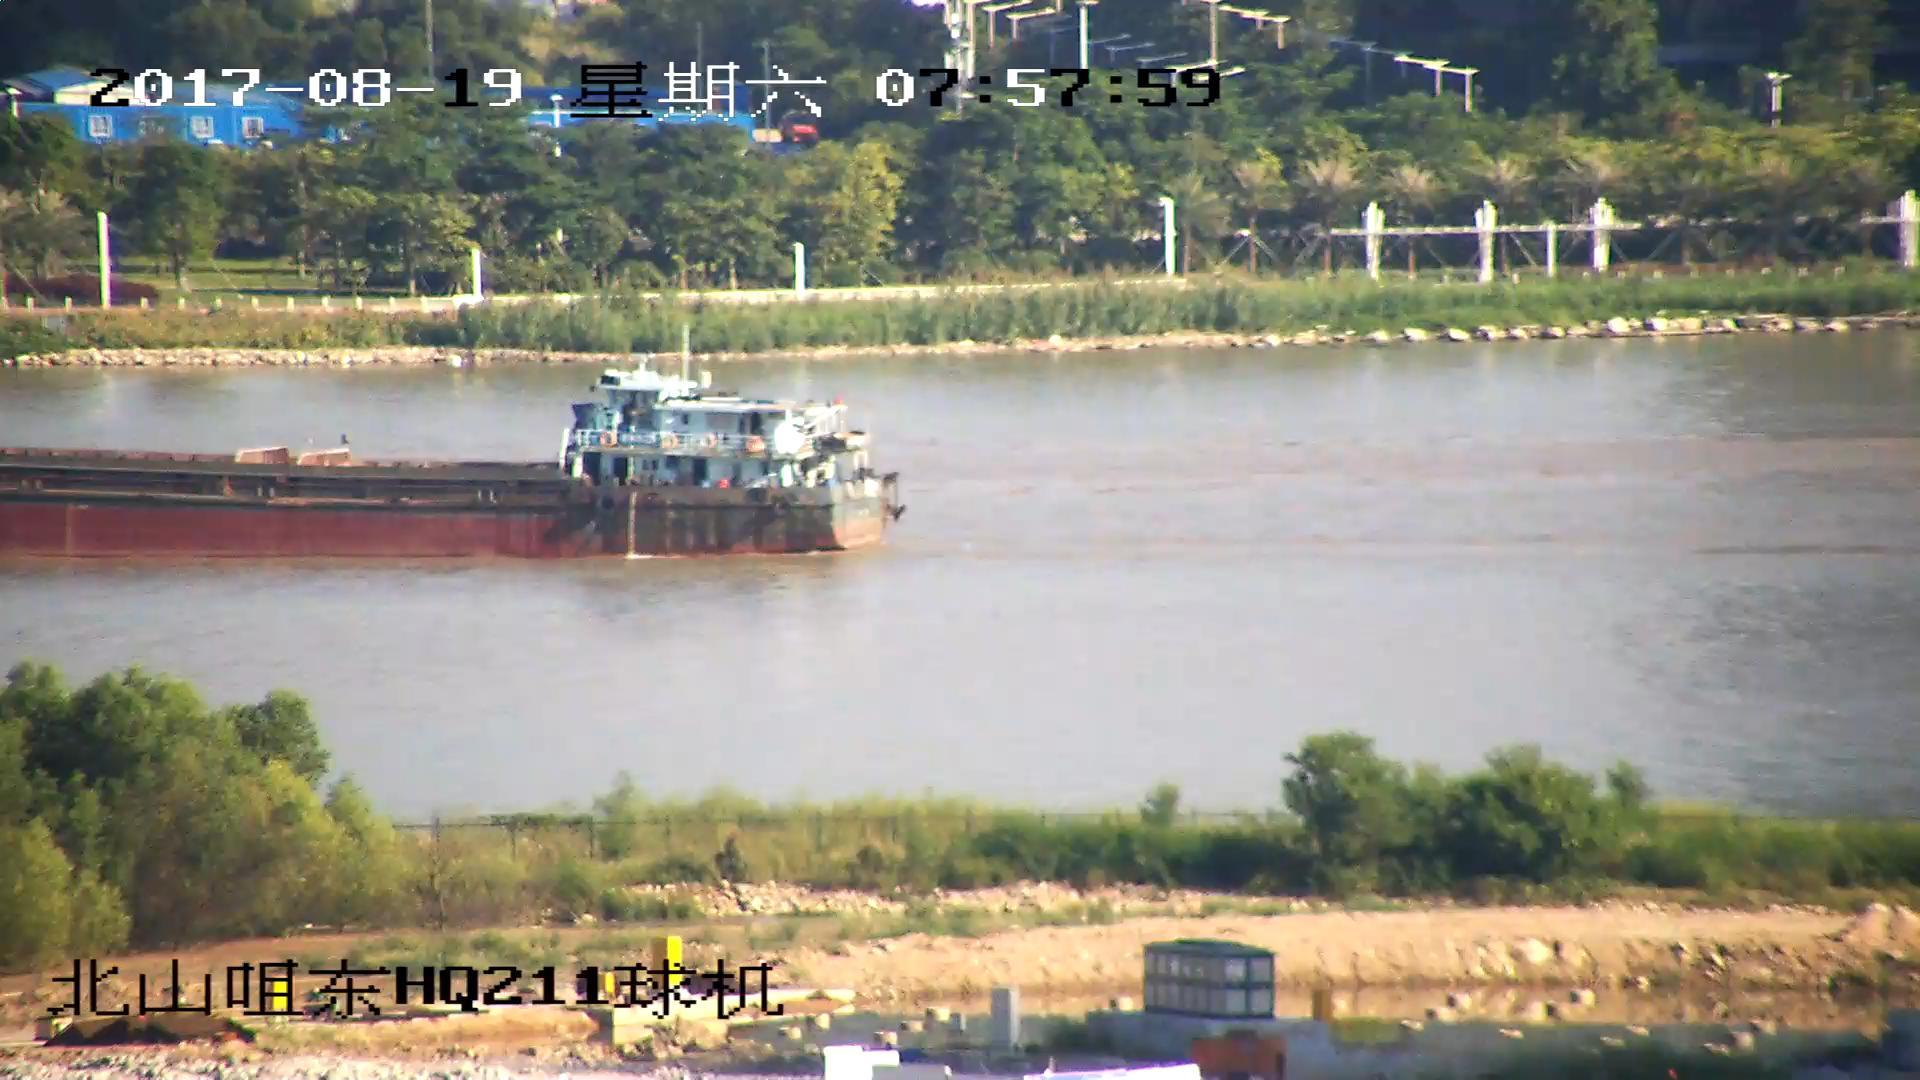Ship: (3, 342, 902, 558)
